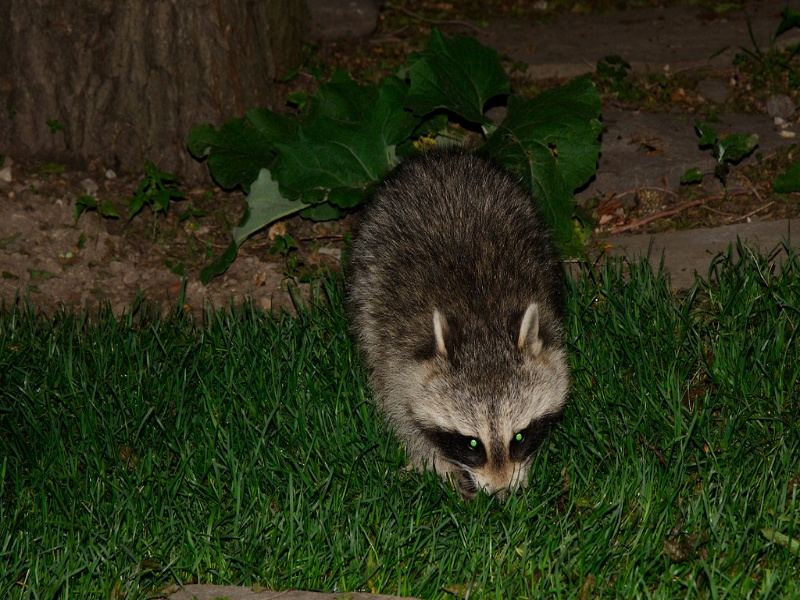raccoon: (335, 152, 587, 516)
